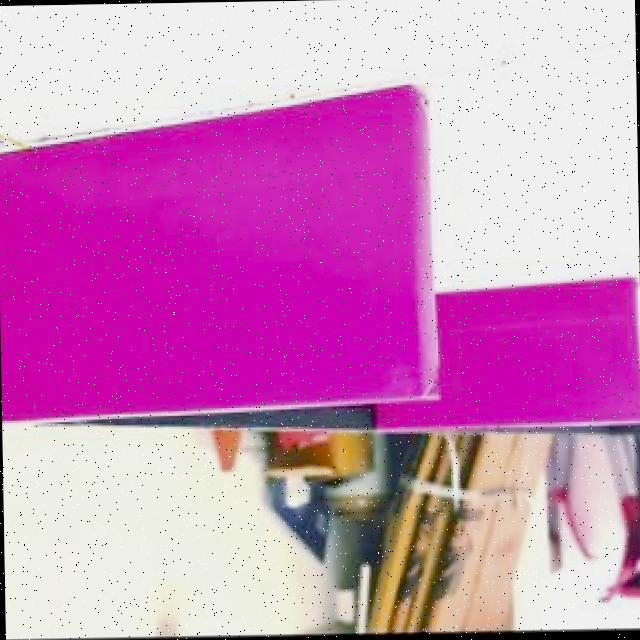xparking: (0, 102, 434, 409), (445, 279, 640, 430)
